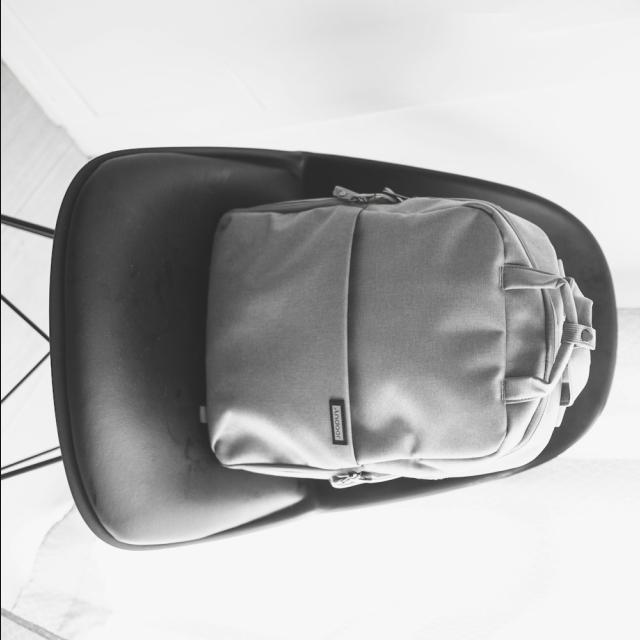backpack: (202, 187, 598, 489)
